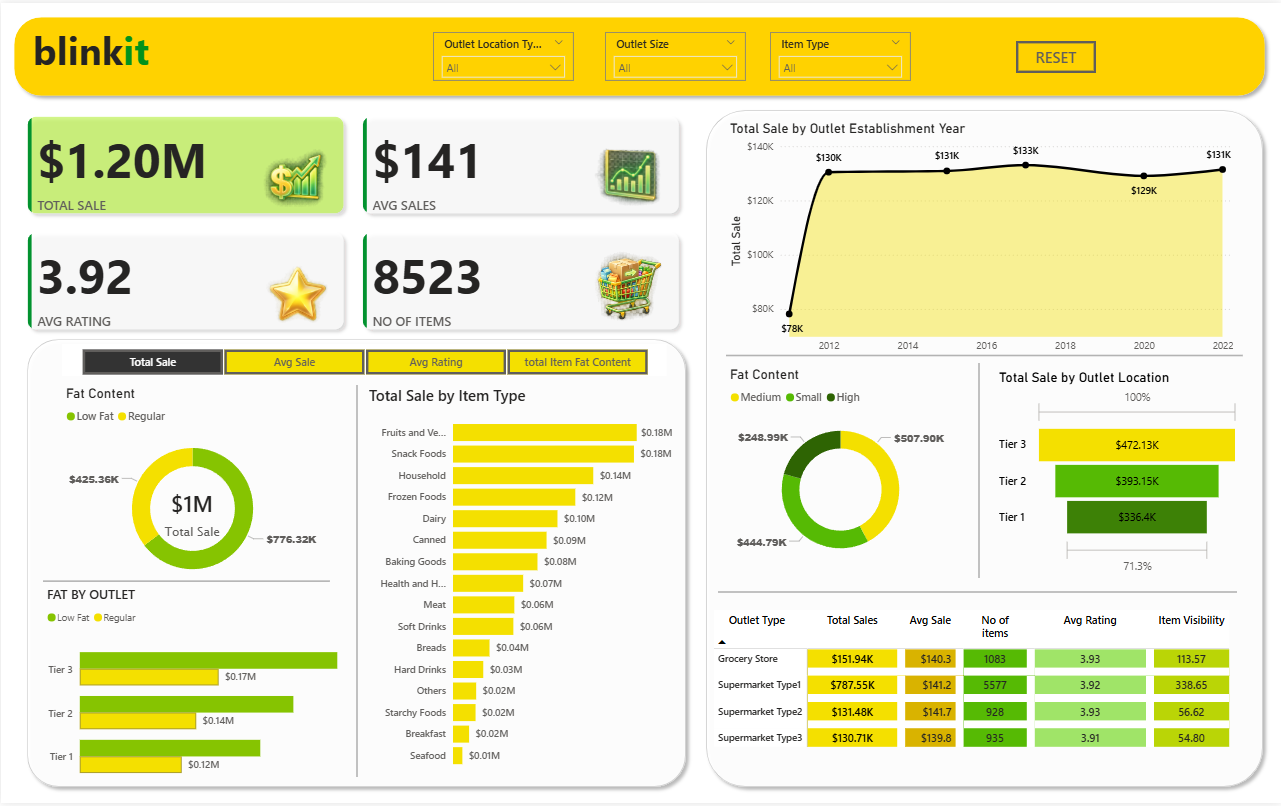

The dashboard page shown, as its layout file describes it:
{"tool":"powerbi","page":{"name":"Page 1","canvas":[1600,1000],"ordinal":0},"visuals":[{"type":"shape","box":[7.5,8.8,1581.2,116.2],"z":0},{"type":"textbox","box":[35,20,165,93.8],"z":1000},{"type":"cardVisual","fields":{"Data":["BlinkIT_Grocery_Data.Total Sale","BlinkIT_Grocery_Data.Avg Sale","BlinkIT_Grocery_Data.Avg Rating","BlinkIT_Grocery_Data.total Item Fat Content"]},"box":[16.2,125,848.8,301.2],"z":2000},{"type":"shape","box":[23.8,411.2,841.2,577.5],"z":3000},{"type":"slicer","fields":{"Values":["Matrix.Matrix"]},"box":[76.2,426.2,756.2,40],"z":4000},{"type":"donutChart","title":"Fat Content","fields":{"Y":["BlinkIT_Grocery_Data.Total Sale"],"Category":["BlinkIT_Grocery_Data.Item Fat Content"]},"box":[76.2,477.5,326.2,261.2],"z":5000},{"type":"cardVisual","fields":{"Data":["BlinkIT_Grocery_Data.Total Sale"]},"box":[170,588.8,138.8,87.5],"z":6000},{"type":"clusteredBarChart","title":"FAT BY OUTLET","fields":{"Y":["BlinkIT_Grocery_Data.Total Sale"],"Category":["BlinkIT_Grocery_Data.Outlet Location Type"],"Series":["BlinkIT_Grocery_Data.Item Fat Content"]},"box":[52.9,727.1,372.9,264.3],"z":7000},{"type":"shape","box":[52.9,691.4,358.6,62.9],"z":8000},{"type":"barChart","fields":{"Y":["BlinkIT_Grocery_Data.Total Sale"],"Category":["BlinkIT_Grocery_Data.Item Type"]},"box":[455,477.5,388.8,490],"z":9000},{"type":"shape","box":[411.2,477.5,67.5,490],"z":10000},{"type":"shape","box":[872.5,125,713.8,863.8],"z":11000},{"type":"lineChart","fields":{"Category":["BlinkIT_Grocery_Data.Outlet Establishment Year"],"Y":["BlinkIT_Grocery_Data.Total Sale"]},"box":[906.2,146.2,638.8,300],"z":12000},{"type":"shape","box":[906.2,426.2,646.2,28.8],"z":13000},{"type":"donutChart","title":"Fat Content","fields":{"Y":["BlinkIT_Grocery_Data.Total Sale"],"Category":["BlinkIT_Grocery_Data.Outlet Size"]},"box":[906.2,453.8,286.2,261.2],"z":14000},{"type":"shape","box":[1188.8,450,67.5,268.8],"z":15000},{"type":"funnel","title":"Total Sale by Outlet Location ","fields":{"Y":["BlinkIT_Grocery_Data.Total Sale"],"Category":["BlinkIT_Grocery_Data.Outlet Location Type"]},"box":[1242.5,457.5,310,261.2],"z":16000},{"type":"pivotTable","fields":{"Rows":["BlinkIT_Grocery_Data.Outlet Type"],"Values":["Sum(BlinkIT_Grocery_Data.Total Sales)","BlinkIT_Grocery_Data.Avg Sale","BlinkIT_Grocery_Data.No of items","BlinkIT_Grocery_Data.Avg Rating","Sum(BlinkIT_Grocery_Data.Item Visibility)"]},"box":[886.2,753.8,683.8,213.8],"z":17000},{"type":"shape","box":[896.2,705,648.8,62.5],"z":18000},{"type":"slicer","fields":{"Values":["BlinkIT_Grocery_Data.Outlet Location Type"]},"box":[540,36.2,176.2,61.2],"z":19000},{"type":"slicer","fields":{"Values":["BlinkIT_Grocery_Data.Outlet Size"]},"box":[755,36.2,176.2,61.2],"z":19001},{"type":"slicer","fields":{"Values":["BlinkIT_Grocery_Data.Item Type"]},"box":[961.2,36.2,176.2,61.2],"z":19002},{"type":"actionButton","box":[1268.8,47.5,100,40],"z":19003}]}

Visuals, with their boxes in screenshot pixels (x1, y1, x2, y2), scaled from the page's 1600x1000 canvas onto the 1281x806 screenshot:
shape: [x1=6, y1=7, x2=1272, y2=101]
textbox: [x1=28, y1=16, x2=160, y2=92]
cardVisual - BlinkIT_Grocery_Data.Total Sale x BlinkIT_Grocery_Data.Avg Sale: [x1=13, y1=101, x2=693, y2=344]
shape: [x1=19, y1=331, x2=693, y2=797]
slicer - Matrix.Matrix: [x1=61, y1=344, x2=666, y2=376]
"Fat Content" donutChart: [x1=61, y1=385, x2=322, y2=595]
cardVisual - BlinkIT_Grocery_Data.Total Sale: [x1=136, y1=475, x2=247, y2=545]
"FAT BY OUTLET" clusteredBarChart: [x1=42, y1=586, x2=341, y2=799]
shape: [x1=42, y1=557, x2=329, y2=608]
barChart - BlinkIT_Grocery_Data.Total Sale x BlinkIT_Grocery_Data.Item Type: [x1=364, y1=385, x2=676, y2=780]
shape: [x1=329, y1=385, x2=383, y2=780]
shape: [x1=699, y1=101, x2=1270, y2=797]
lineChart - BlinkIT_Grocery_Data.Outlet Establishment Year x BlinkIT_Grocery_Data.Total Sale: [x1=726, y1=118, x2=1237, y2=360]
shape: [x1=726, y1=344, x2=1243, y2=367]
"Fat Content" donutChart: [x1=726, y1=366, x2=955, y2=576]
shape: [x1=952, y1=363, x2=1006, y2=579]
"Total Sale by Outlet Location " funnel: [x1=995, y1=369, x2=1243, y2=579]
pivotTable - BlinkIT_Grocery_Data.Outlet Type x Sum(BlinkIT_Grocery_Data.Total Sales): [x1=710, y1=608, x2=1257, y2=780]
shape: [x1=718, y1=568, x2=1237, y2=619]
slicer - BlinkIT_Grocery_Data.Outlet Location Type: [x1=432, y1=29, x2=573, y2=79]
slicer - BlinkIT_Grocery_Data.Outlet Size: [x1=604, y1=29, x2=746, y2=79]
slicer - BlinkIT_Grocery_Data.Item Type: [x1=770, y1=29, x2=911, y2=79]
actionButton: [x1=1016, y1=38, x2=1096, y2=71]
